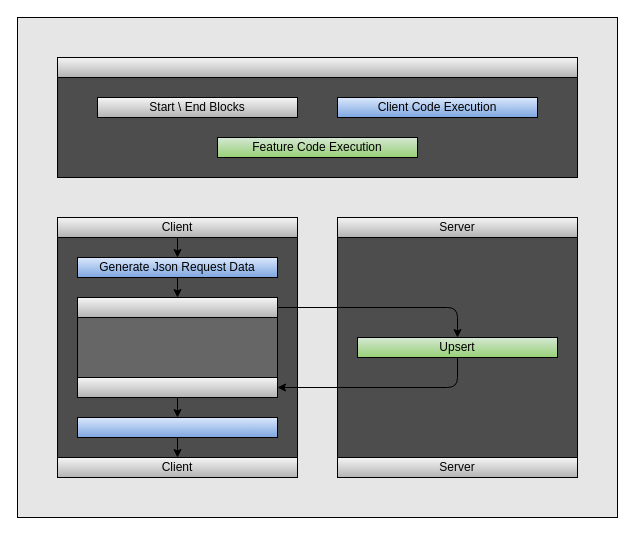
Image size: 635x535. Some labels were removed from this diagram. Each missing label, with the box of its shape:
Begin Upsert: (76, 296, 278, 318)
End Upsert: (76, 376, 278, 398)
Legend: (56, 56, 578, 78)
Manipulate Json Response Data: (76, 416, 278, 438)
